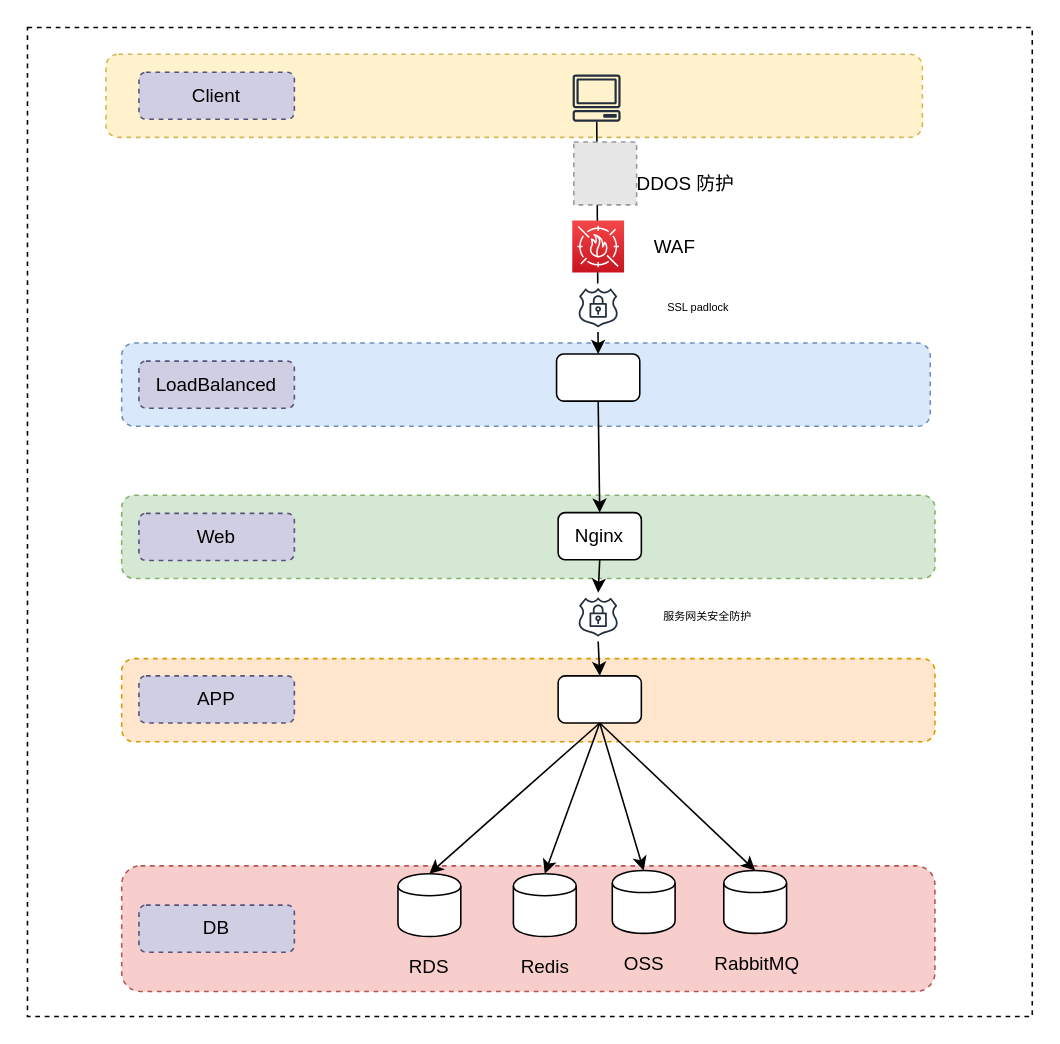
The diagram is 1060 pixels wide and 1044 high, and some of its shapes have lost their labels. Grey dashed boxes stand in for pictures. Each missing label, with the box of its shape:
SLB: (555, 352, 640, 401)
应用层: (557, 674, 641, 723)
